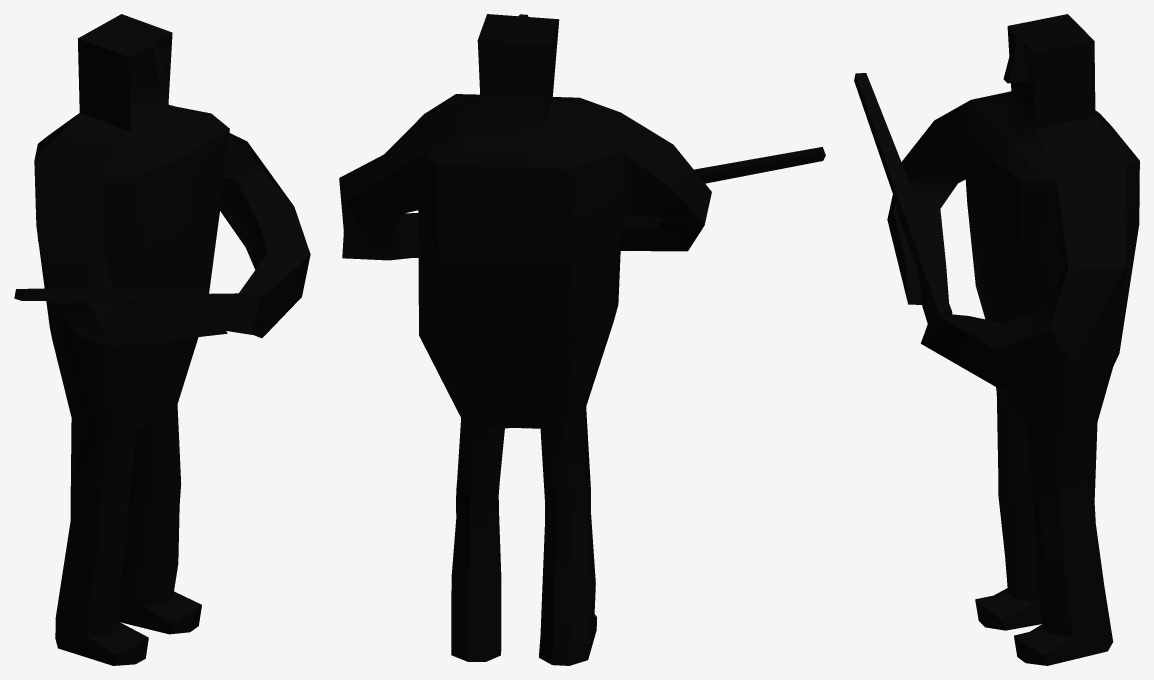
File: hunterB_mesh.fbx
3 views of the same model, side by side, from view 1: azimuth 30°, elevation 25°; view 2: azimuth 150°, elevation 25°; view 3: azimuth 270°, elevation 25° (orthographic). The views are drawn at different scales.
Visible parts, largest first — view 1: hunterB; view 2: hunterB; view 3: hunterB.
Boxes of the visible parts, left/top/right/bottom form: hunterB: left=14, top=14, right=310, bottom=665; hunterB: left=339, top=14, right=825, bottom=665; hunterB: left=854, top=14, right=1139, bottom=665.
Bounding box in the file's own units: 0.7108 × 1.09 × 0.4701.
